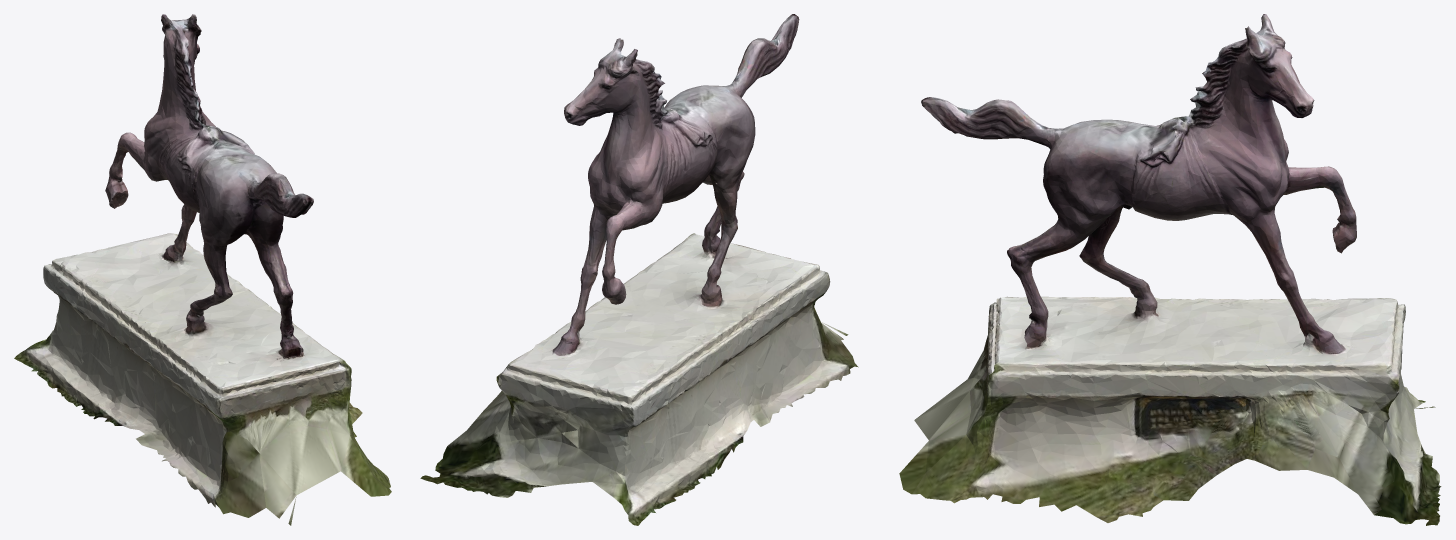
Rendered from horse-scan-2.glb.
3 views of the same model, side by side, from view 1: azimuth 30°, elevation 25°; view 2: azimuth 150°, elevation 25°; view 3: azimuth 270°, elevation 25° (orthographic). The views are drawn at different scales.
Size of the model in its own units: 1.75 by 3.1 by 3.53.
Materials: 1 (1 with a texture image).
